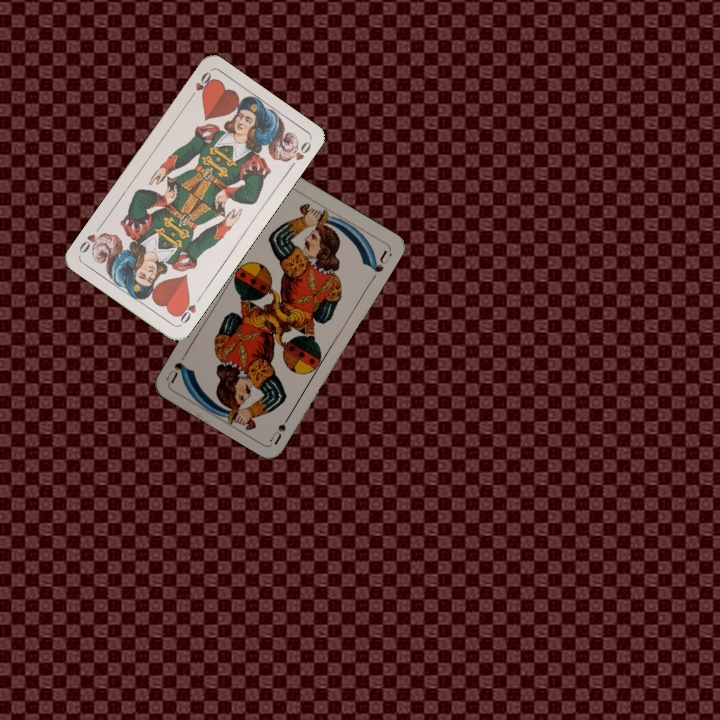HO: (173, 292, 204, 328), (185, 67, 215, 103)
SU: (266, 408, 295, 446)
